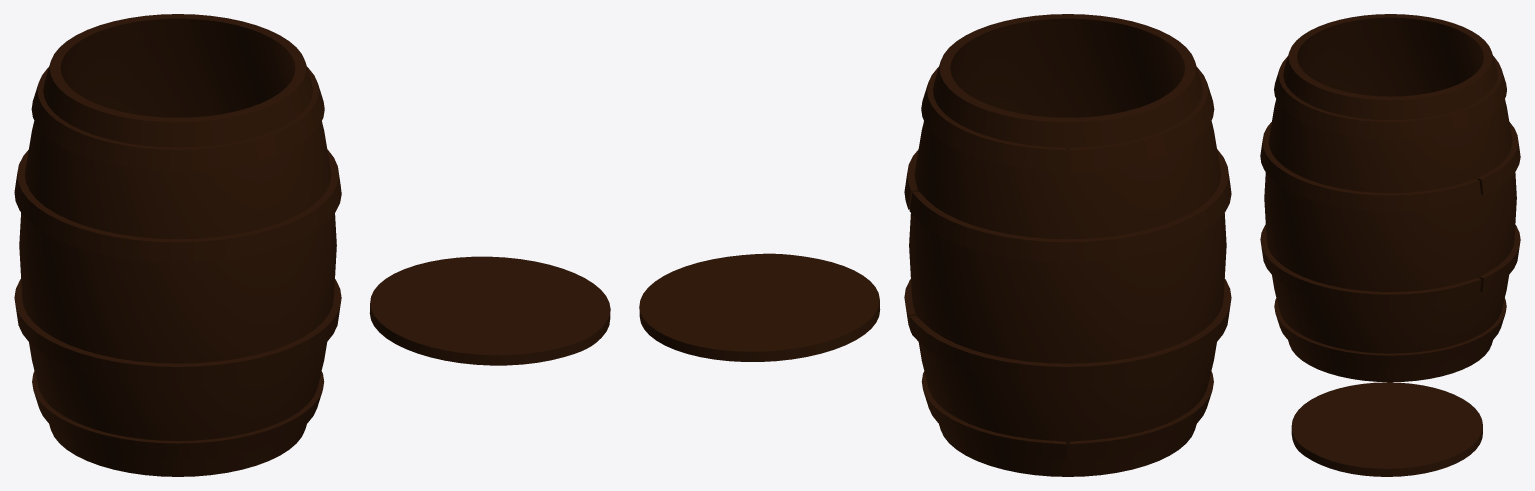
The model's file is barrel.fbx.
The picture shows the model from 3 angles, left to right: view 1: azimuth 30°, elevation 25°; view 2: azimuth 150°, elevation 25°; view 3: azimuth 270°, elevation 25°; orthographic projection. The views are drawn at different scales.
Parts seen in each view (by area): view 1: Barrel, Barrel_Lid; view 2: Barrel, Barrel_Lid; view 3: Barrel, Barrel_Lid.
Part boxes in pixels (left/top/right/bottom): Barrel: left=14, top=14, right=341, bottom=476; Barrel_Lid: left=369, top=256, right=610, bottom=365; Barrel: left=904, top=14, right=1231, bottom=476; Barrel_Lid: left=639, top=253, right=880, bottom=361; Barrel: left=1260, top=14, right=1520, bottom=382; Barrel_Lid: left=1291, top=382, right=1482, bottom=476.
Bounding box in the file's own units: 8.25 × 5.02 × 4.2.
